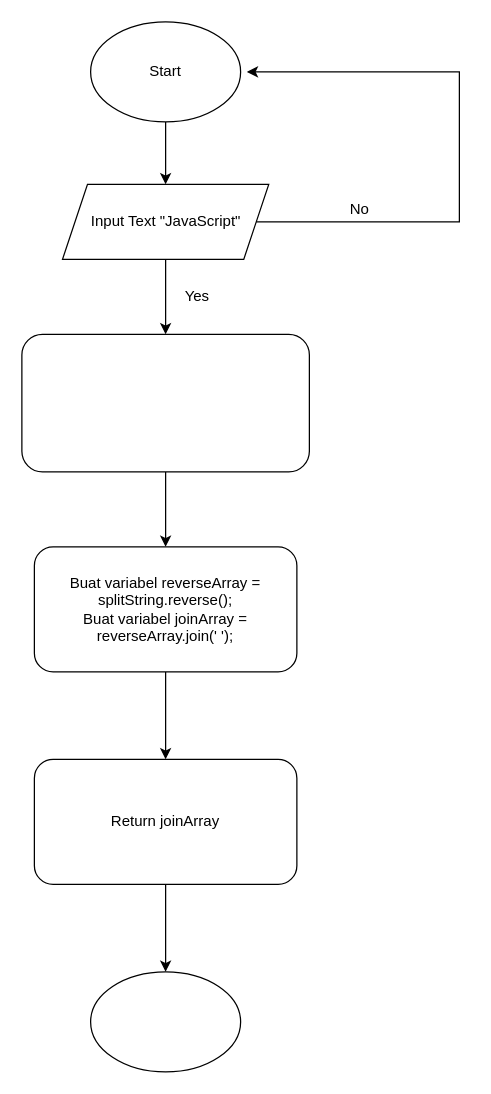
Image size: 491x1094. Some labels were removed from this diagram. Each missing label, with the centre of its shape:
"buat variabel splitString = Text.split(' ')" goes at pixel 165 402.
"End" goes at pixel 165 1021.
